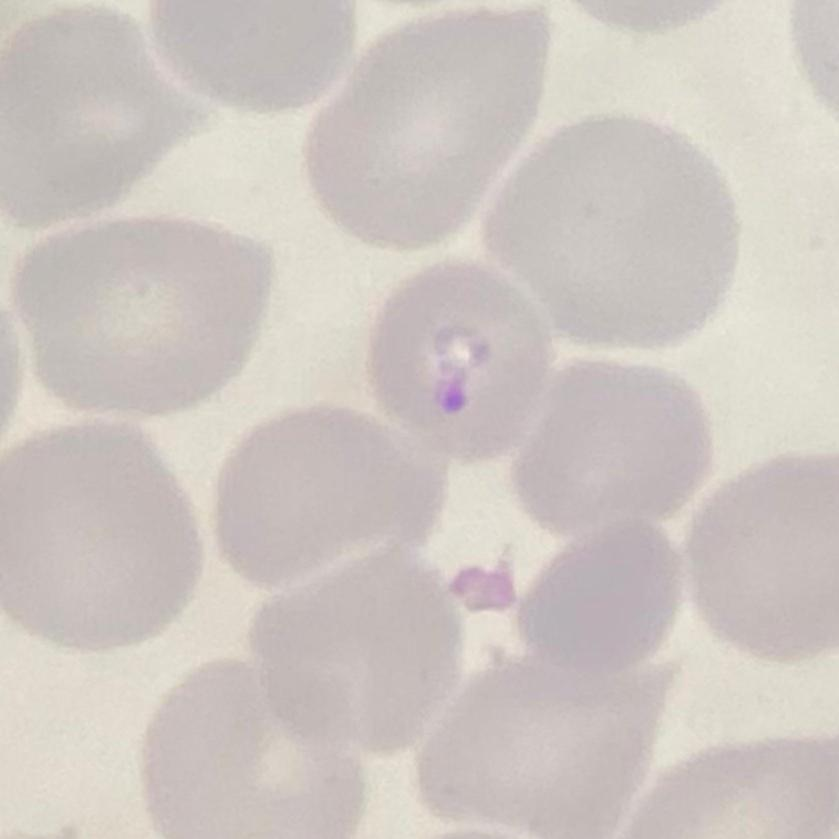Infected: (370, 260, 557, 455)
Uninfected: (488, 112, 743, 350), (303, 10, 555, 248), (415, 647, 686, 839), (13, 215, 275, 412), (0, 420, 201, 651), (212, 404, 457, 587), (0, 7, 203, 222), (248, 549, 465, 749), (143, 660, 366, 839), (513, 360, 715, 537), (690, 447, 839, 667), (515, 510, 677, 673), (418, 636, 423, 639)
